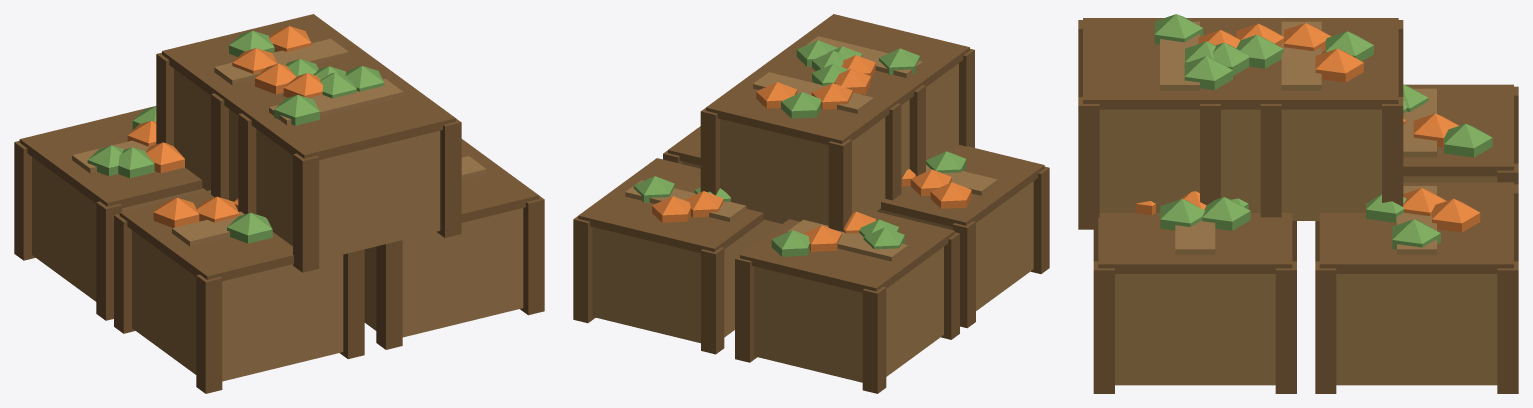
The model's file is pile_vegetables_3.glb.
3 renders of one model, left to right at view 1: azimuth 30°, elevation 25°; view 2: azimuth 150°, elevation 25°; view 3: azimuth 270°, elevation 25°, orthographic. The views are drawn at different scales.
Parts seen in each view (by area): view 1: pile_vegetables_3; view 2: pile_vegetables_3; view 3: pile_vegetables_3.
Boxes of the visible parts, x1,y1,x2,y2 form: pile_vegetables_3: (14,14,544,393); pile_vegetables_3: (573,14,1049,393); pile_vegetables_3: (1078,14,1518,393).
Size of the model in its own units: 1.43 by 0.969 by 1.45.
